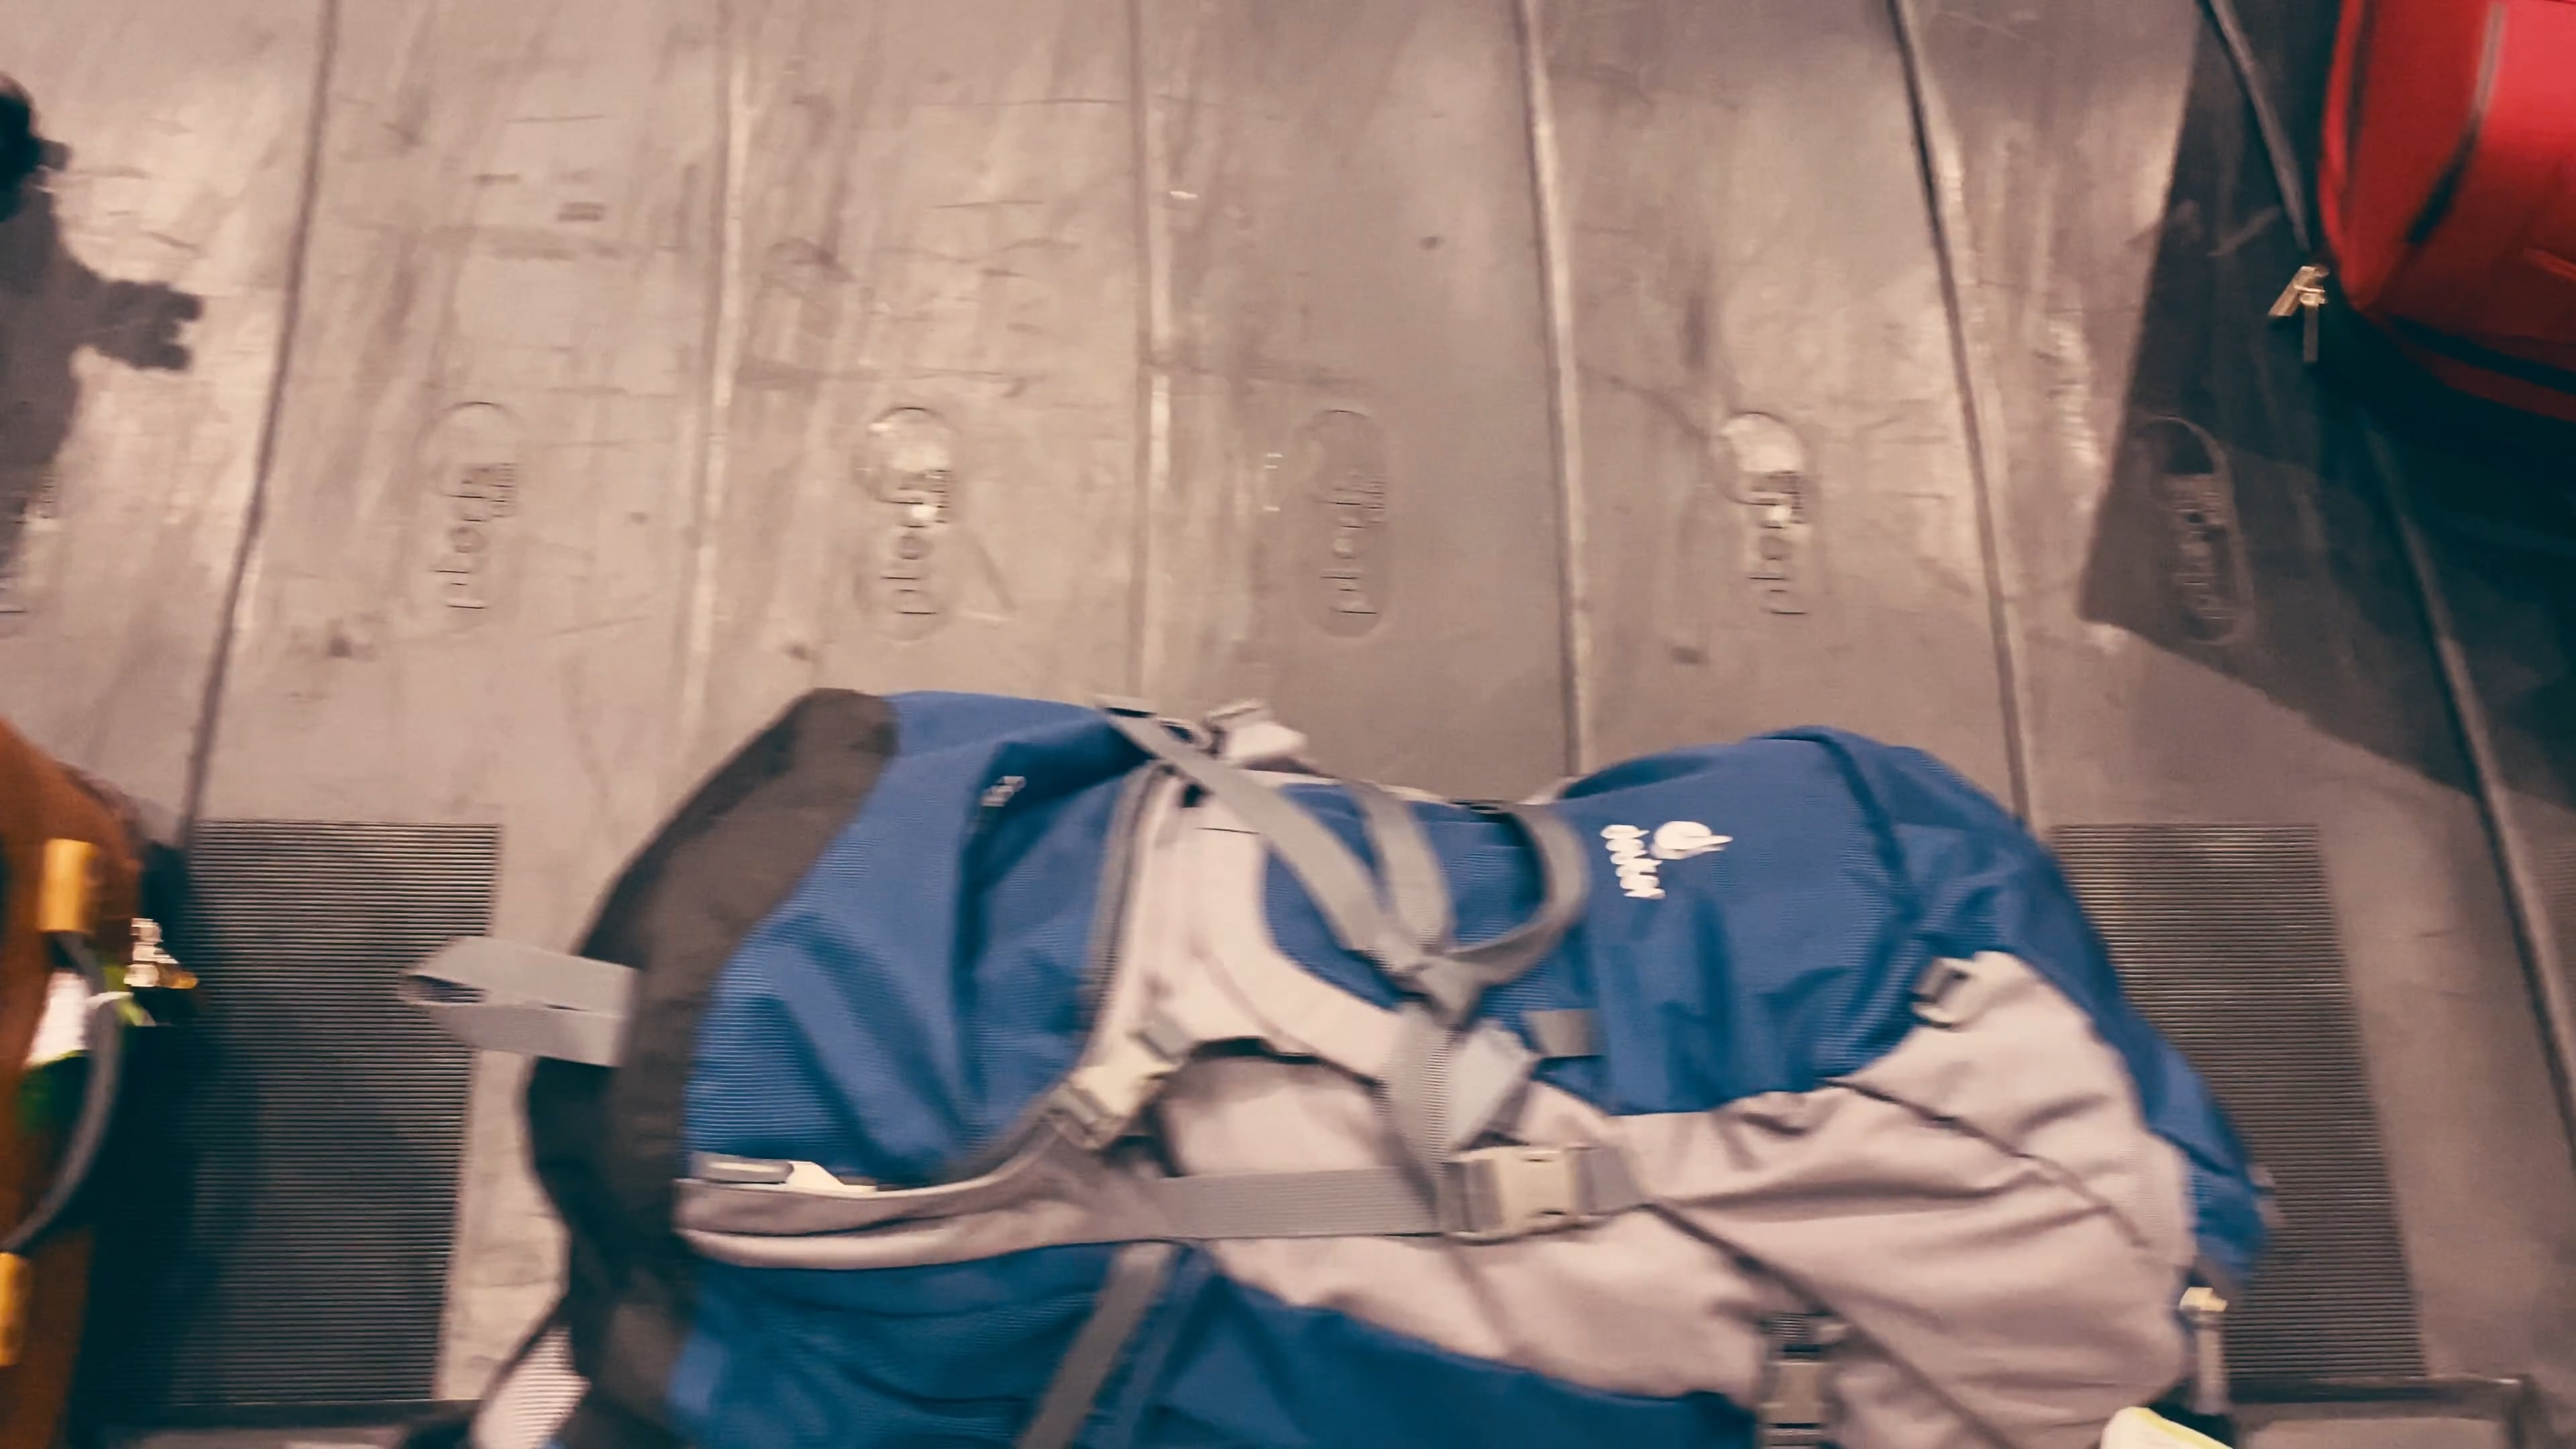baggage: (462, 678, 2288, 1449)
